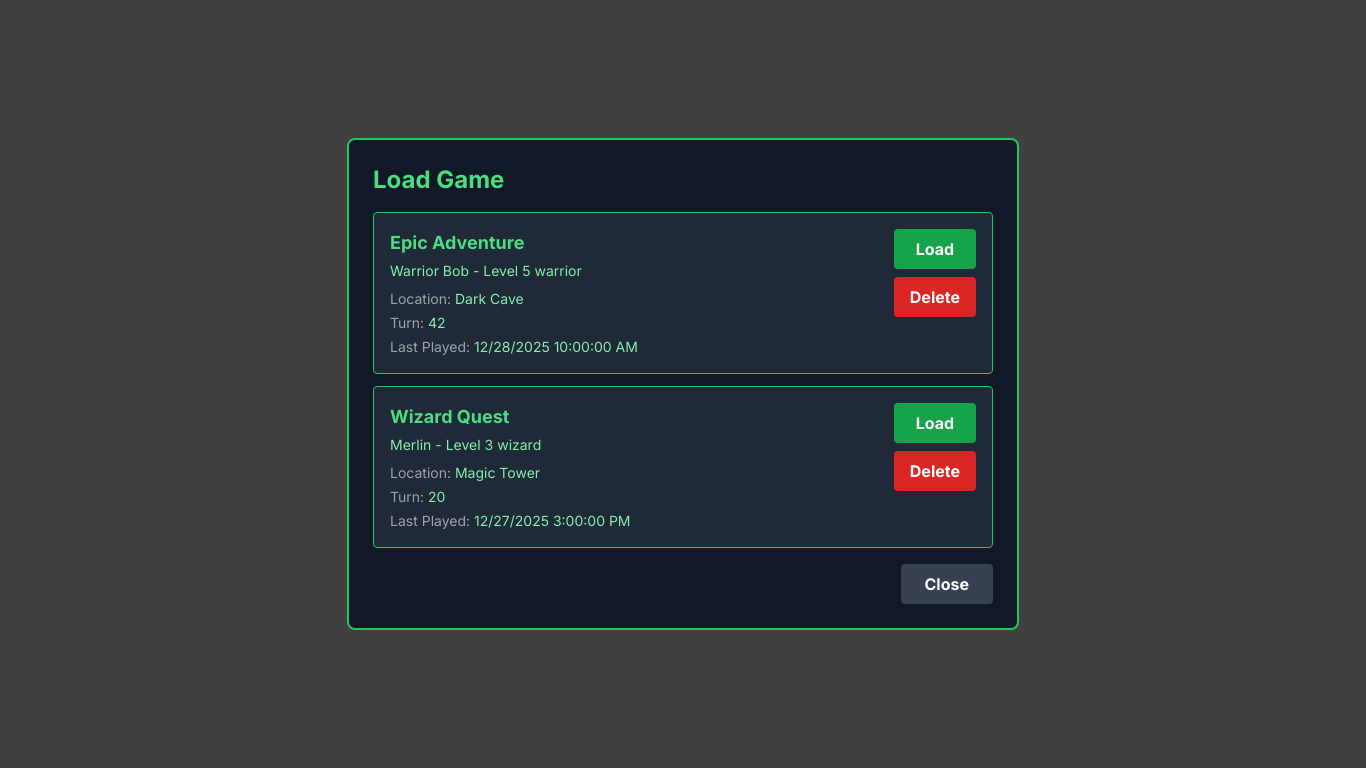
Test: LoadGameModal › should display error when delete fails
Expected: the heading "Epic Adventure" is shown, top-left (390, 232), bottom-right (524, 253)
Click the button "Delete" in the row of "Dark Cave": point(935, 297) top-left (894, 277), bottom-right (976, 317)
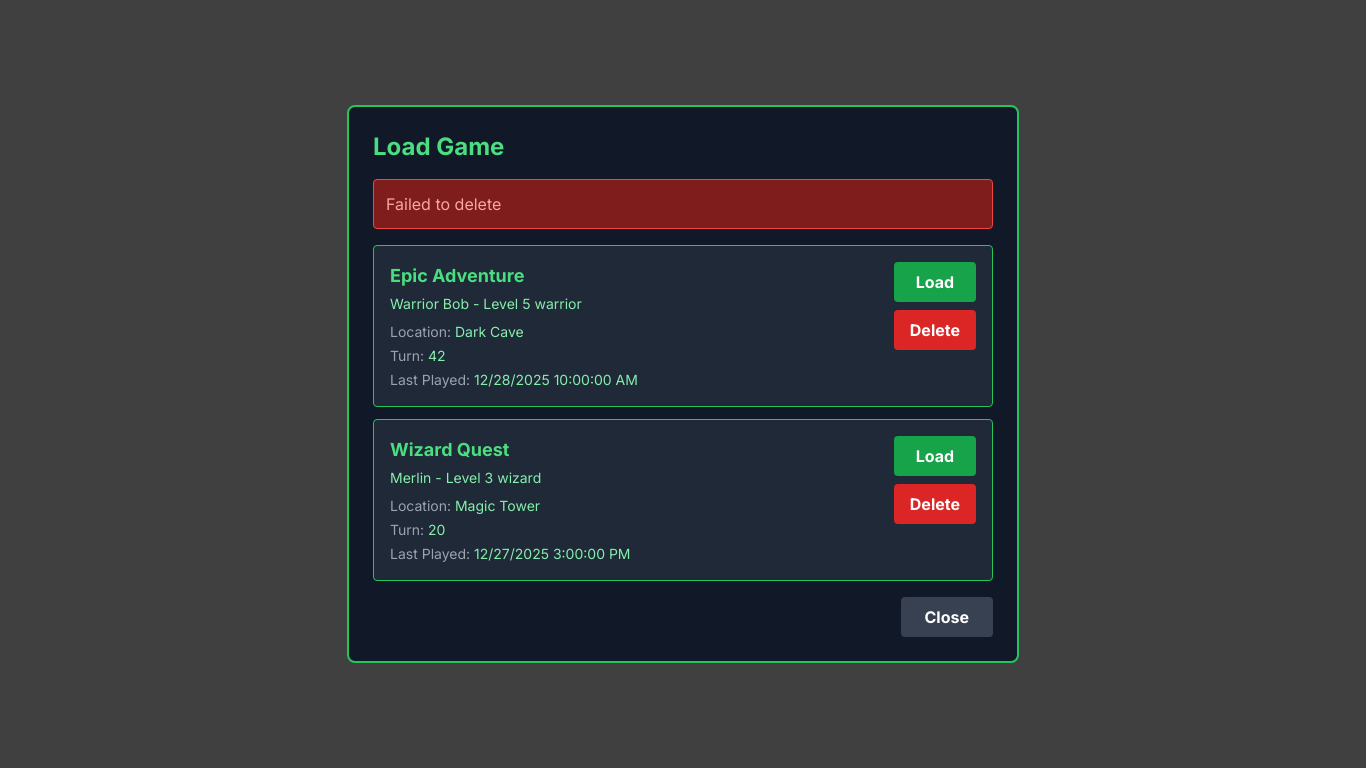
Result: the text "Failed to delete" is shown at top-left (386, 194), bottom-right (501, 214)
